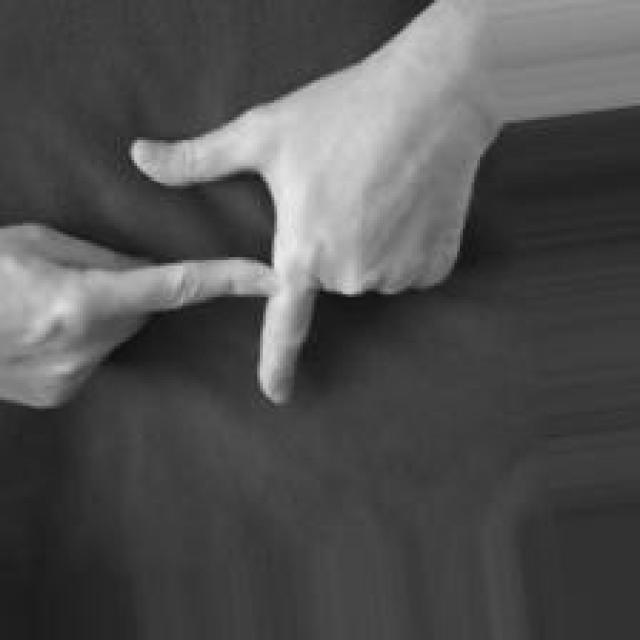F: (1, 51, 486, 411)
